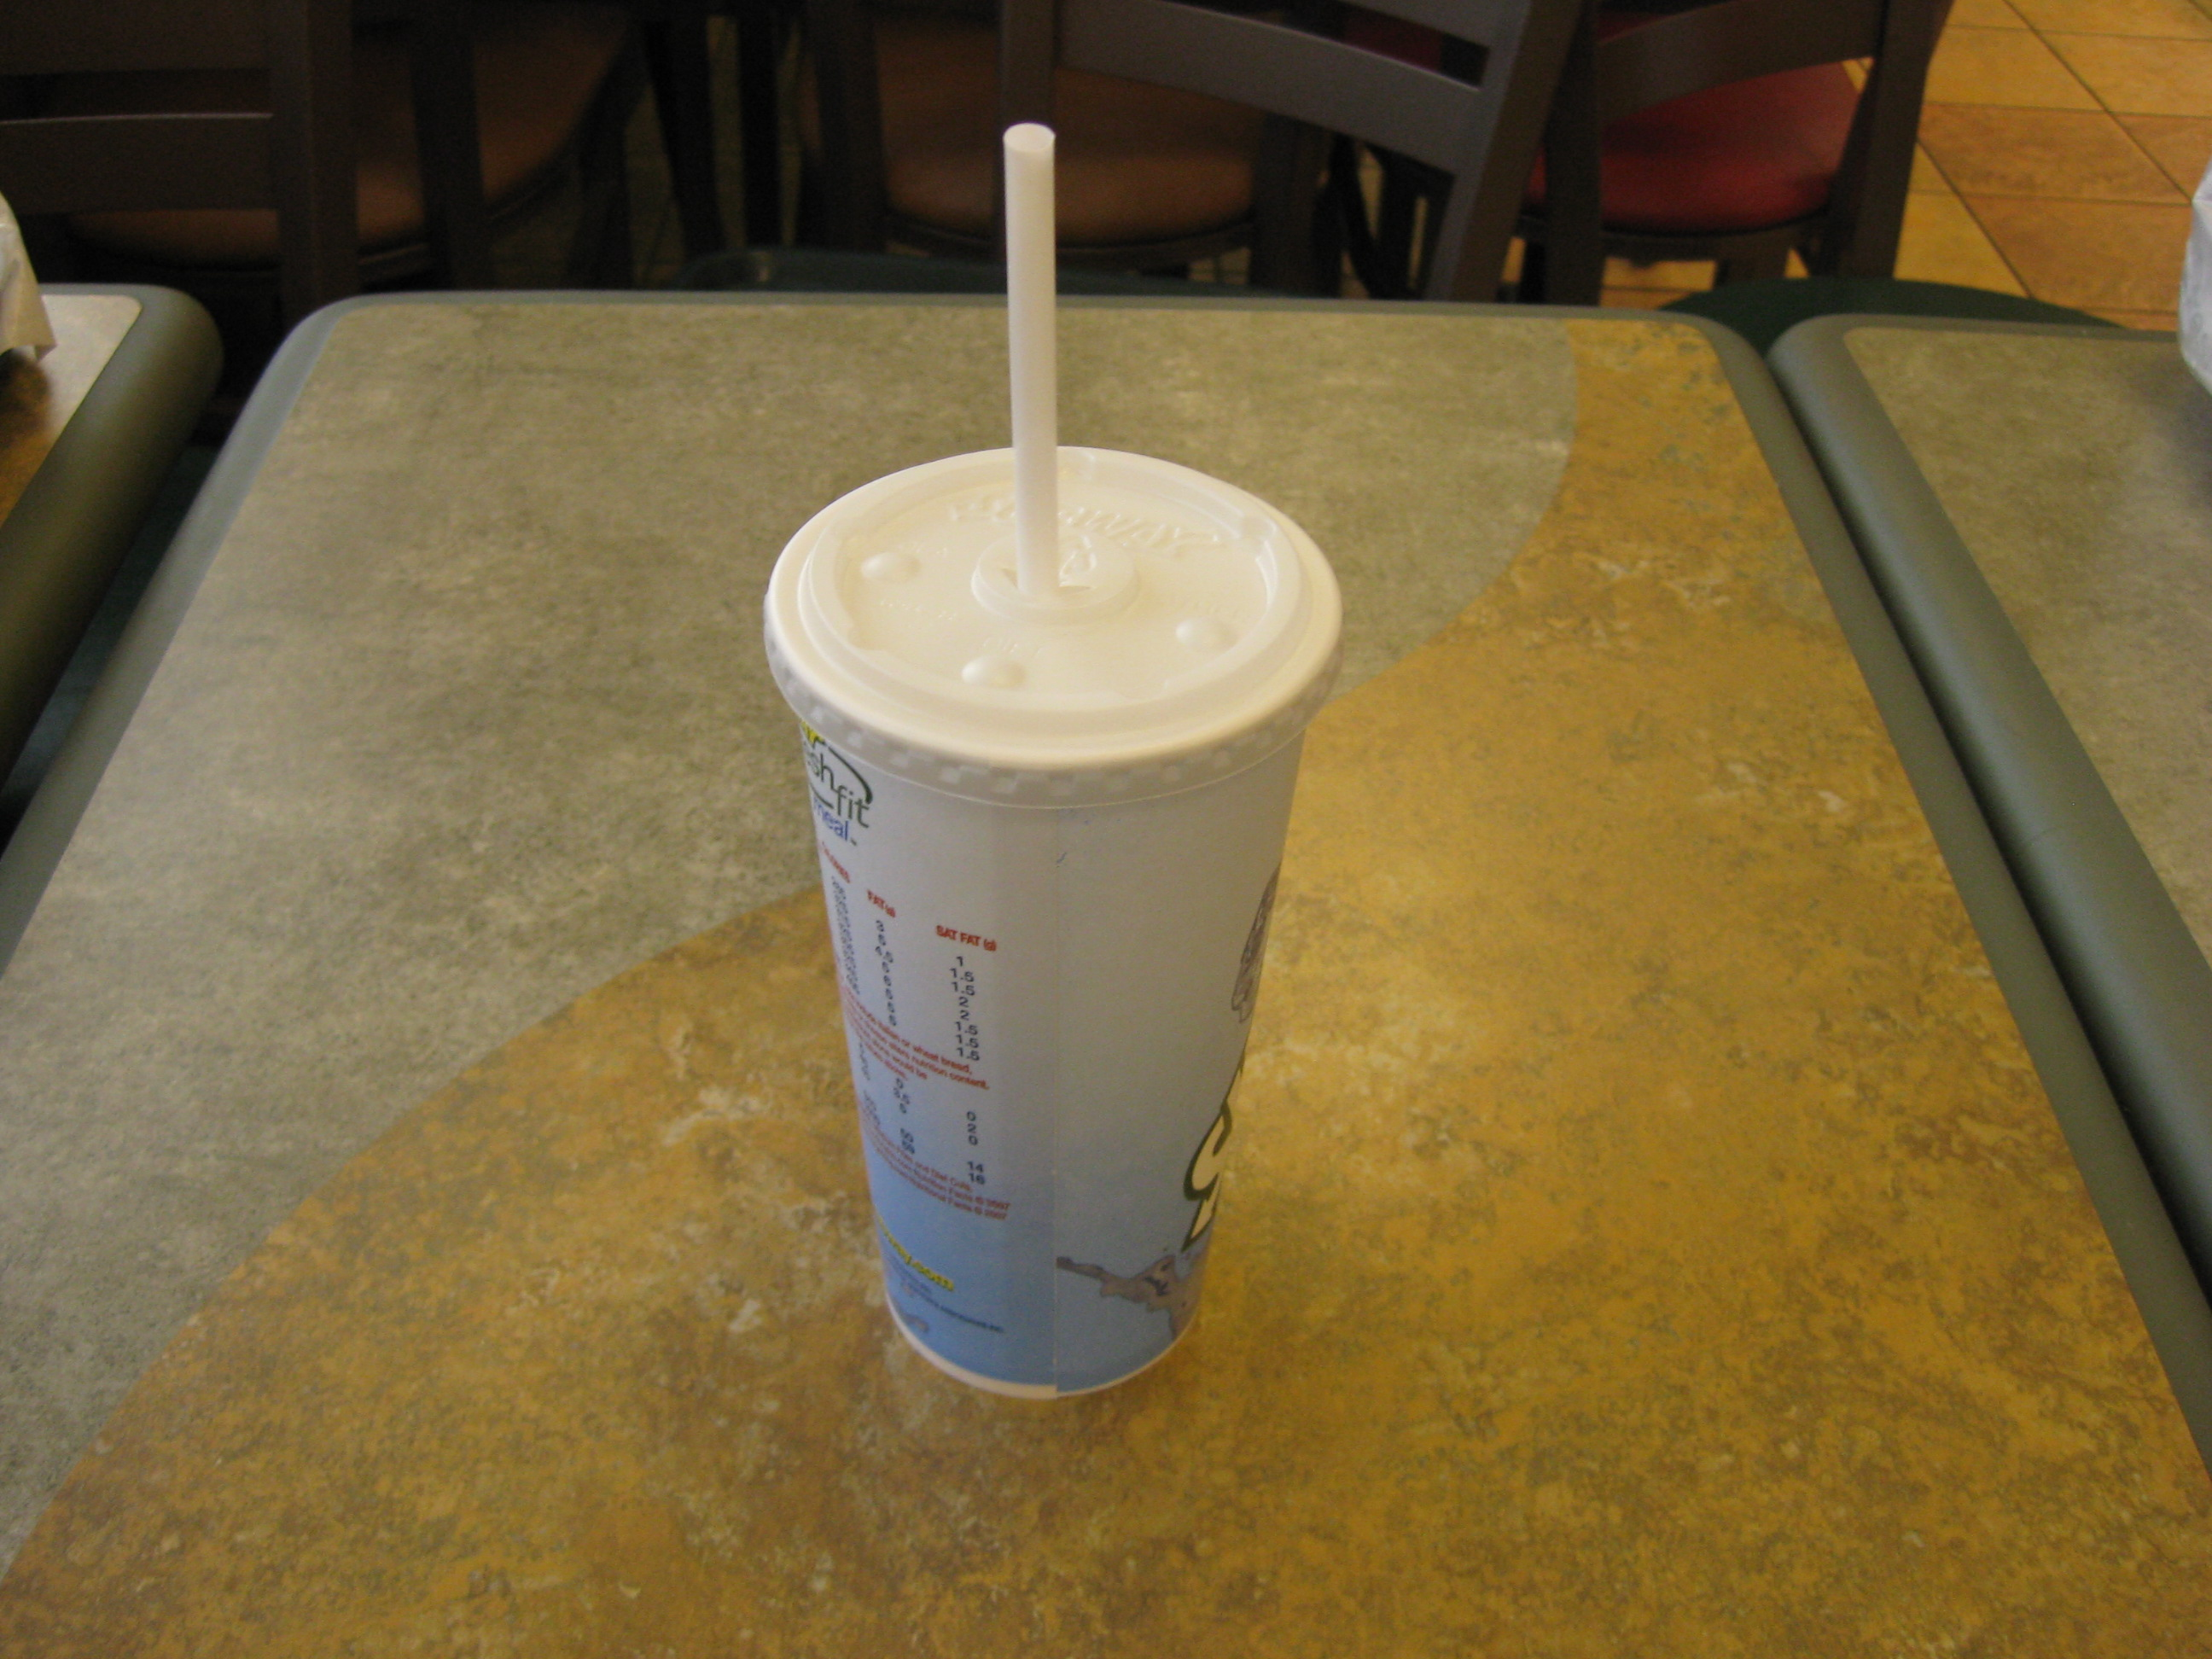drink: (754, 219, 1380, 1414)
